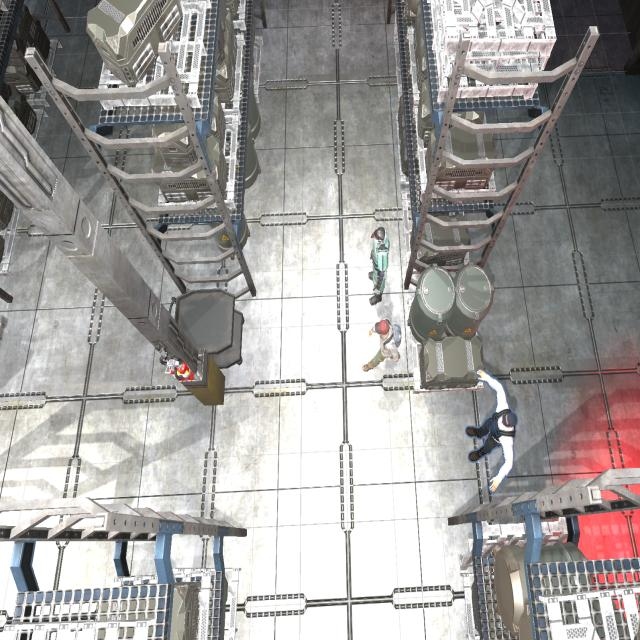thiefs: (361, 316, 407, 378)
